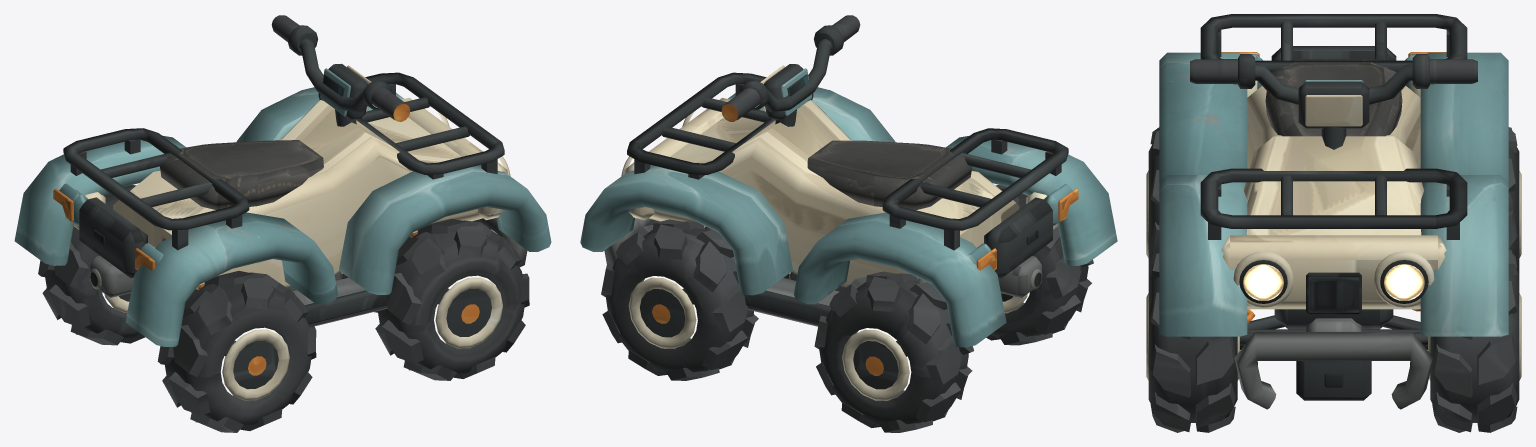
The model's file is SM_ATV_Stylized.glb.
The picture shows the model from 3 angles, left to right: view 1: azimuth 30°, elevation 25°; view 2: azimuth 150°, elevation 25°; view 3: azimuth 270°, elevation 25°; orthographic projection. The views are drawn at different scales.
Parts seen in each view (by area): view 1: SM_ATV_Stylized; view 2: SM_ATV_Stylized; view 3: SM_ATV_Stylized.
Part boxes in pixels (x1,y1,x2,y2): SM_ATV_Stylized: [14, 15, 551, 432]; SM_ATV_Stylized: [580, 15, 1117, 432]; SM_ATV_Stylized: [1146, 14, 1521, 432].
Size of the model in its own units: 2.71 by 1.84 by 1.84.
Materials: 1 (1 with a texture image).
